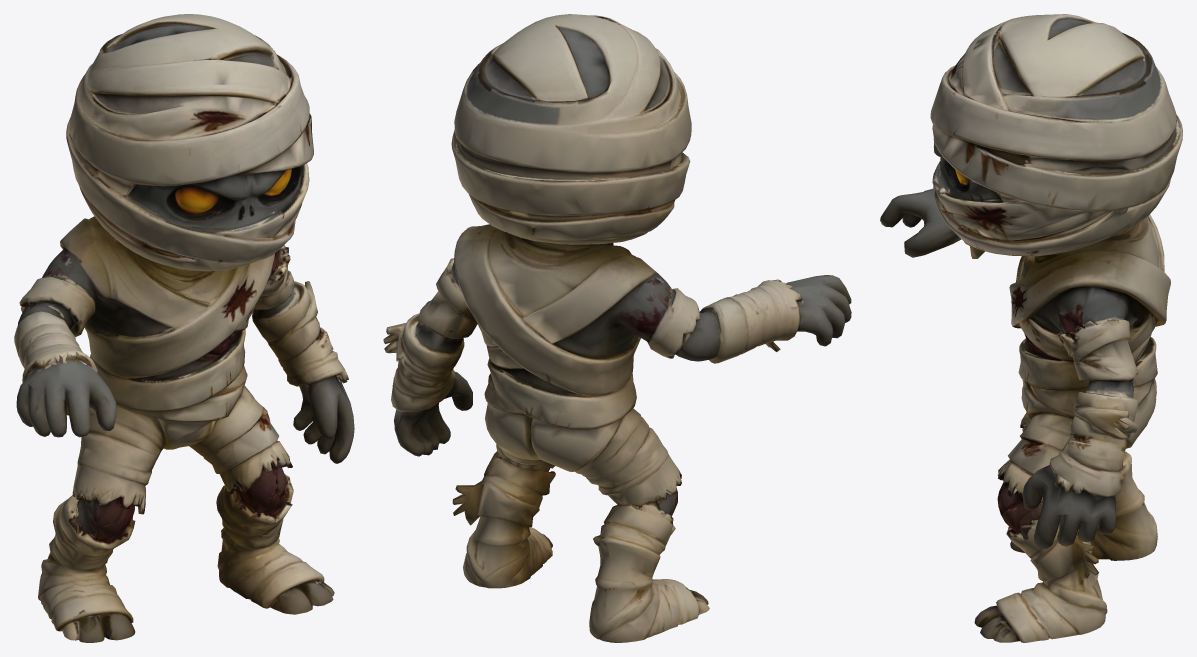
Rendered from monster-mummy.glb.
3 renders of one model, left to right at view 1: azimuth 30°, elevation 25°; view 2: azimuth 150°, elevation 25°; view 3: azimuth 270°, elevation 25°, orthographic. The views are drawn at different scales.
Visible parts, largest first — view 1: node_0; view 2: node_0; view 3: node_0.
Boxes of the visible parts, x1,y1,x2,y2 form: node_0: (14,14,354,642); node_0: (383,14,851,642); node_0: (880,14,1182,642).
Bounding box in the file's own units: 0.6145 × 0.8706 × 0.4262.
Materials: 1 (1 with a texture image).
